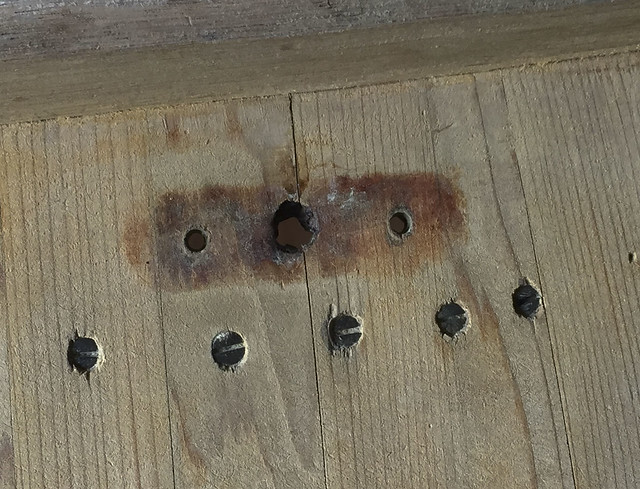hole: (181, 228, 211, 255), (386, 211, 414, 239)
screw: (209, 329, 251, 370), (65, 335, 106, 374), (432, 300, 472, 338), (328, 313, 366, 350), (510, 282, 545, 321)
